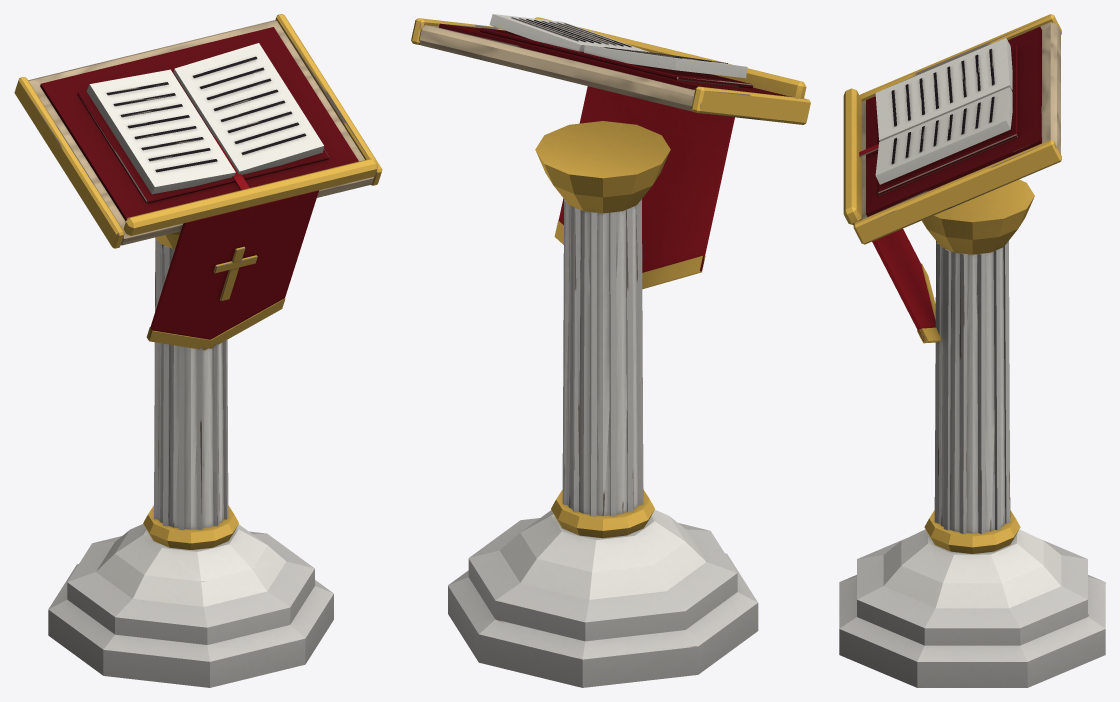
Rendered from lectern_tex.glb.
3 renders of one model, left to right at view 1: azimuth 30°, elevation 25°; view 2: azimuth 150°, elevation 25°; view 3: azimuth 270°, elevation 25°, orthographic. The views are drawn at different scales.
Parts seen in each view (by area): view 1: lectern; view 2: lectern; view 3: lectern.
Part boxes in pixels (bbox=[...]): lectern: bbox=[14, 14, 382, 687]; lectern: bbox=[411, 14, 810, 687]; lectern: bbox=[839, 14, 1105, 687].
Bounding box in the file's own units: 0.64 × 1.27 × 0.5543.
8 materials, 8 textured.
